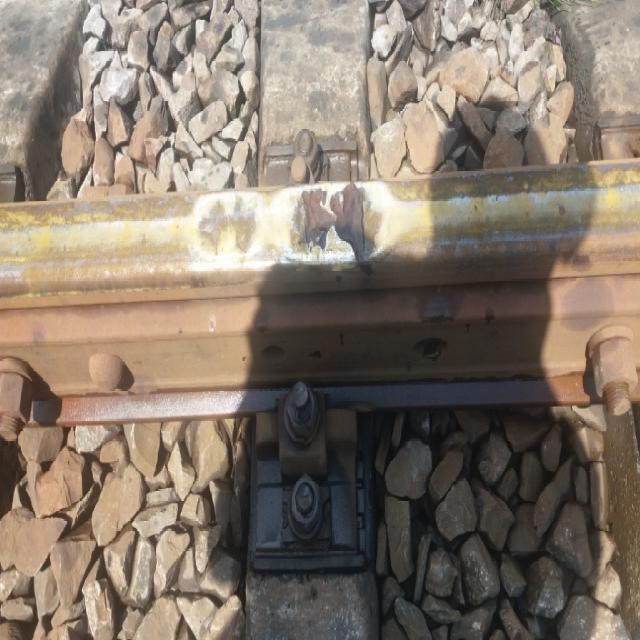railway_join_bar_defects_low: (275, 181, 391, 267)
squats_low: (193, 189, 258, 275)
